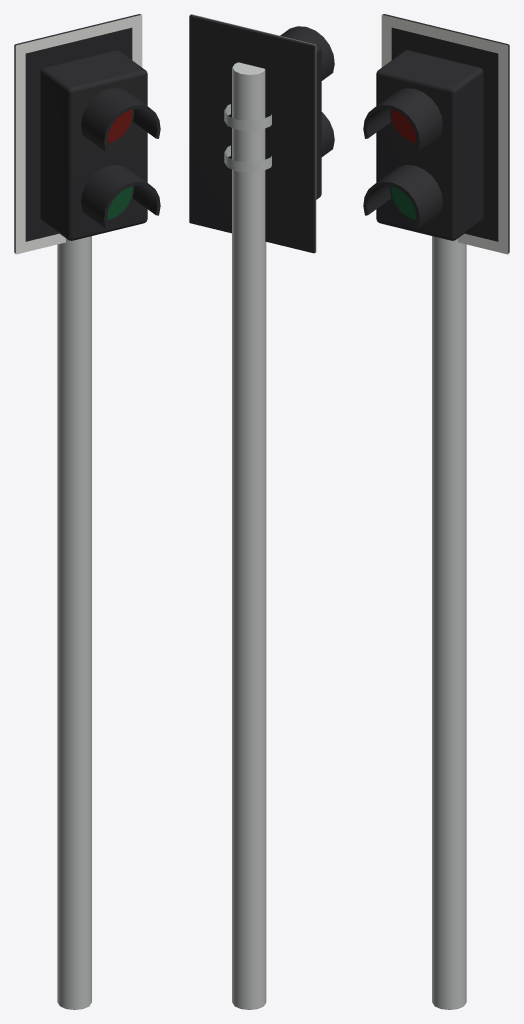
File: lx_msl.glb
3 views of the same model, side by side, from view 1: azimuth 30°, elevation 25°; view 2: azimuth 150°, elevation 25°; view 3: azimuth 330°, elevation 25° (orthographic).
Visible parts, largest first — view 1: SM_lx_msl; view 2: SM_lx_msl; view 3: SM_lx_msl.
Part boxes in pixels (left/top/right/bottom): SM_lx_msl: left=14, top=14, right=160, bottom=1009; SM_lx_msl: left=189, top=14, right=334, bottom=1009; SM_lx_msl: left=363, top=14, right=509, bottom=1009.
Bounding box in the file's own units: 0.38 × 2.8 × 0.365.
